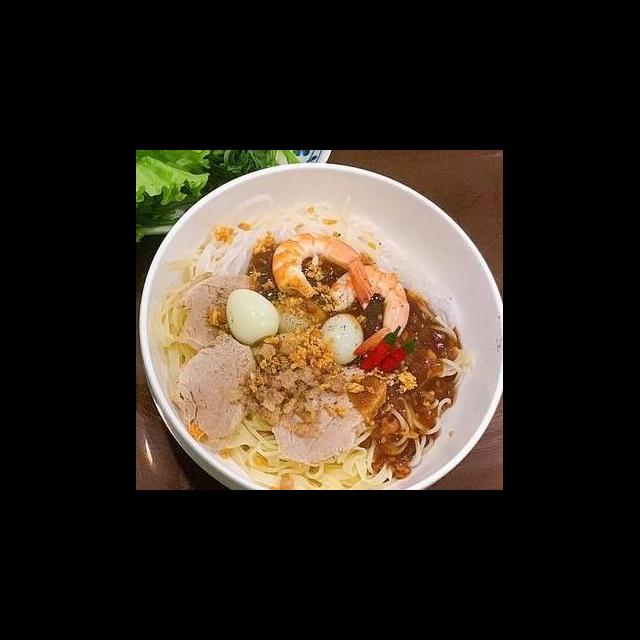hu tieu: (205, 408, 398, 490), (188, 191, 286, 283), (364, 391, 454, 485), (409, 281, 478, 402), (278, 193, 384, 265), (154, 284, 202, 388)
thit heo: (270, 363, 390, 467), (168, 327, 264, 453), (174, 270, 260, 356)
tom: (268, 230, 380, 313), (322, 262, 414, 359)
trung: (222, 286, 286, 348), (316, 309, 366, 366)
